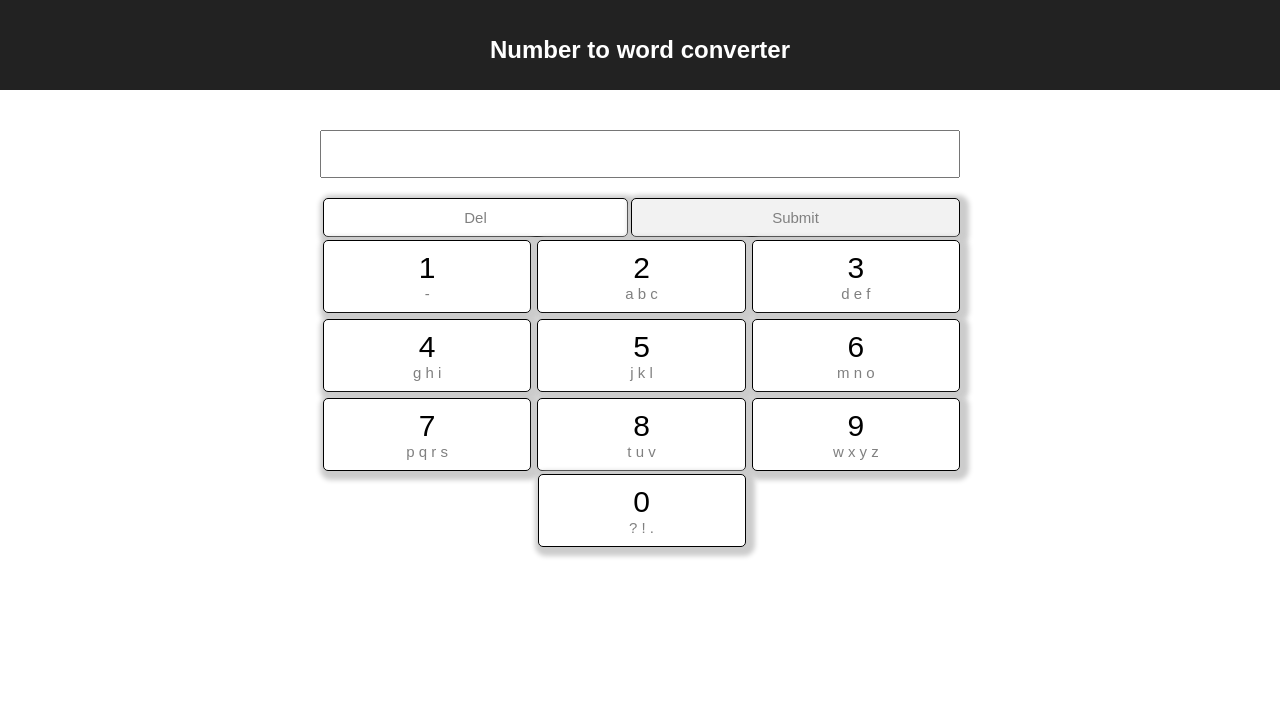
Test: App › updates input value after clicking on buttons
This screenshot has width=1280, height=720.
Step 1. Click the button "2 a b c" → coordinates (641, 277), box [537, 240, 745, 313]
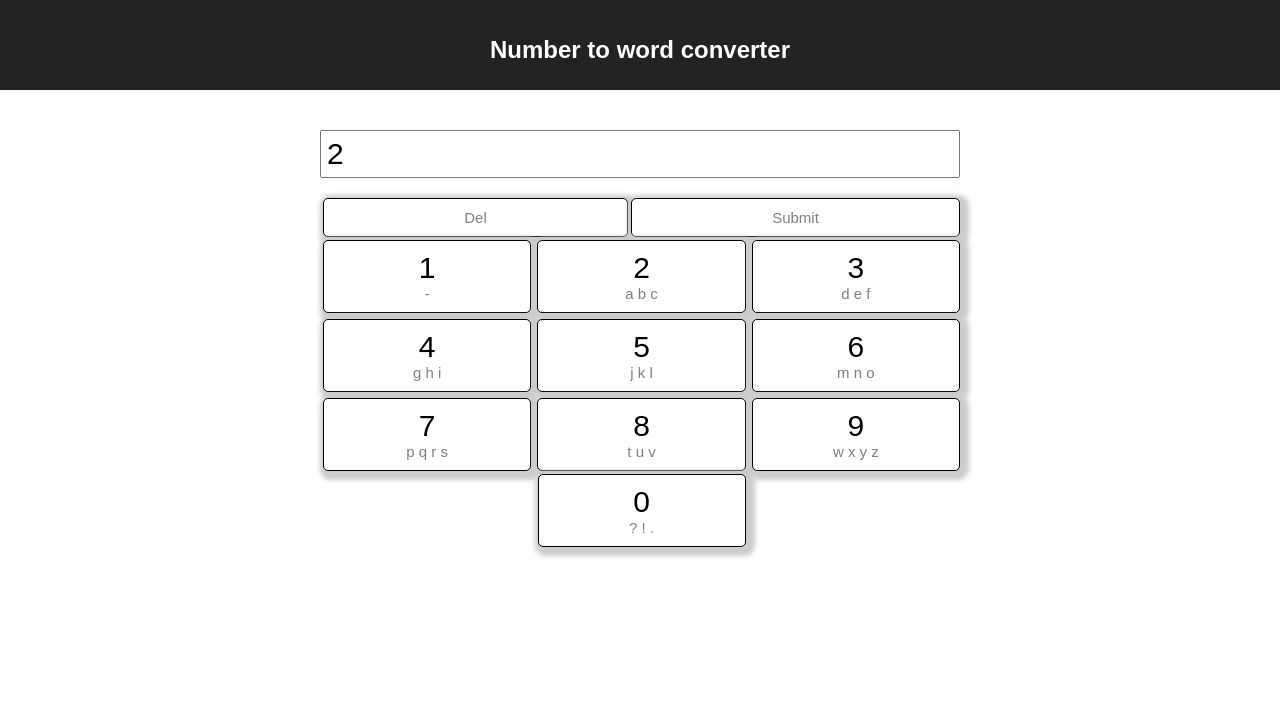
Step 2. Click the button "4 g h i" → coordinates (427, 356), box [323, 319, 531, 392]
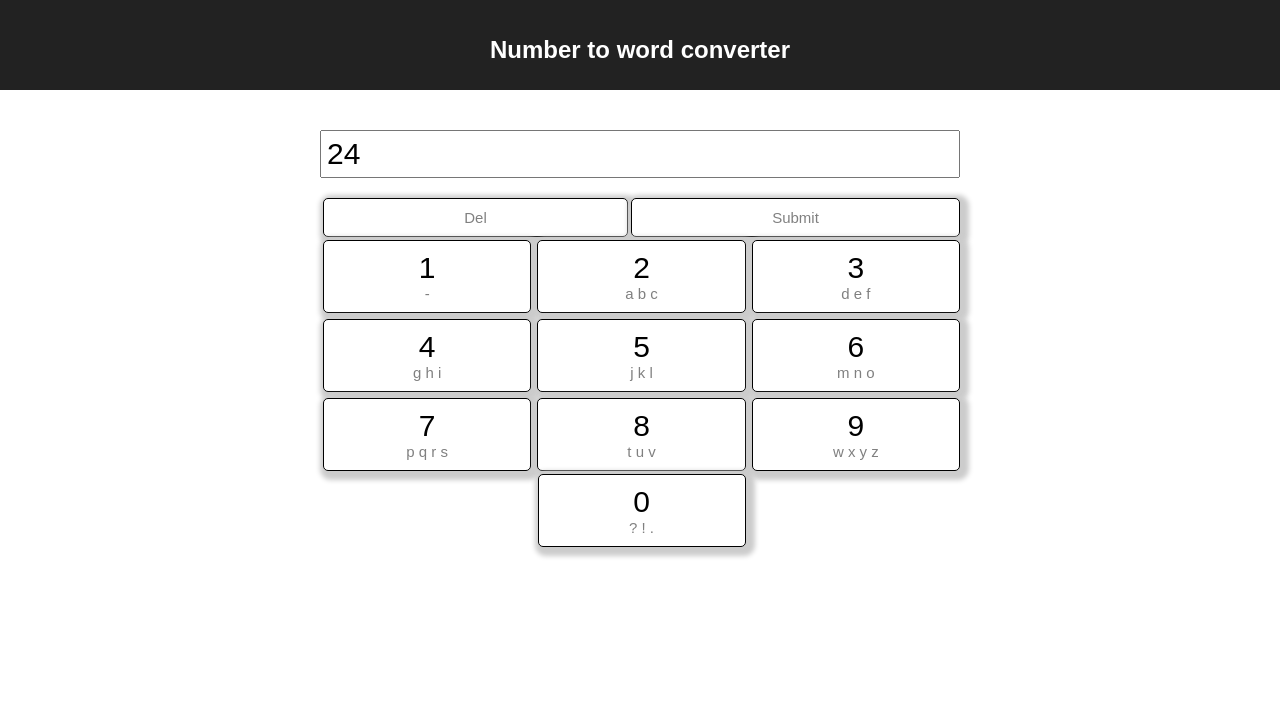
Step 3. Click the button "6 m n o" → coordinates (856, 356), box [752, 319, 960, 392]
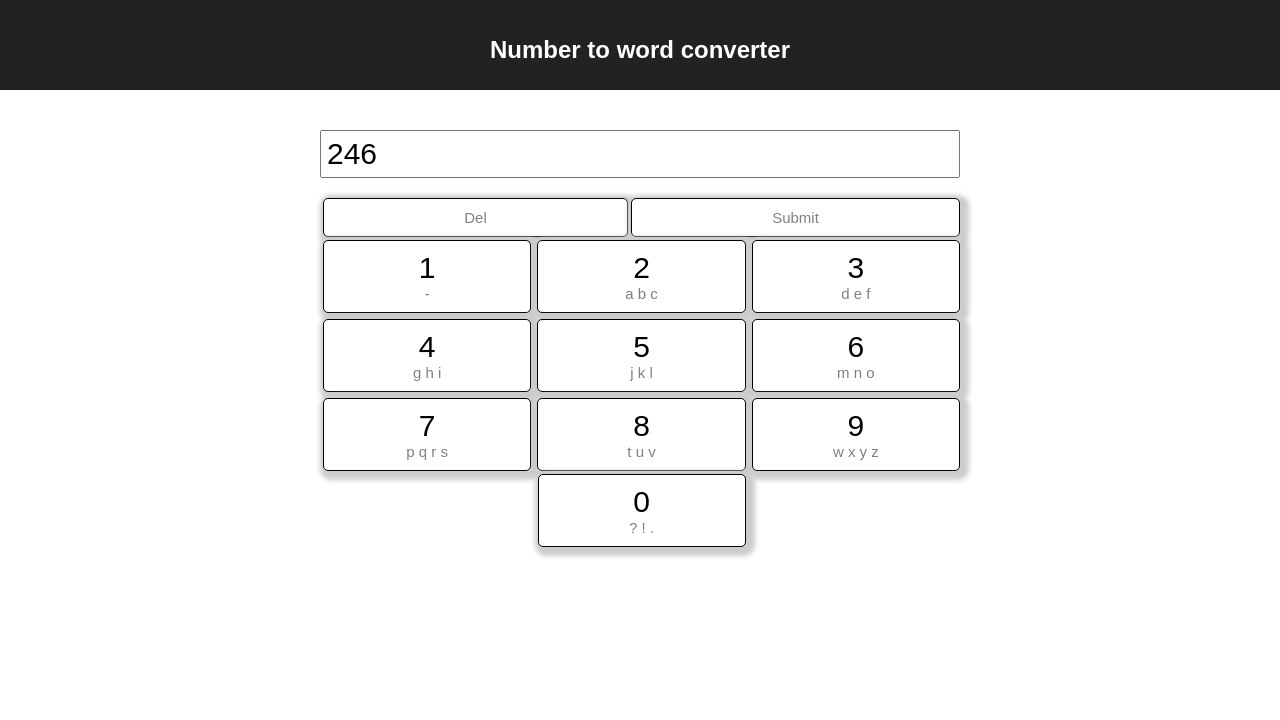
Now the number field with class "number-input" holds "246", box [320, 130, 960, 178]
